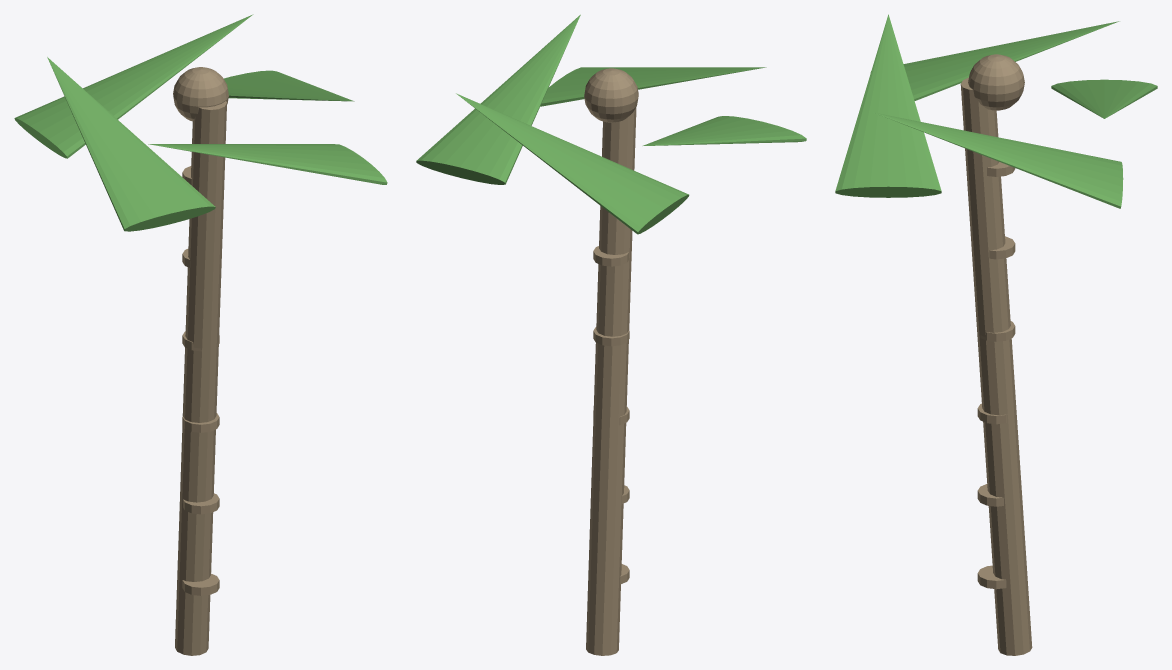
The model's file is palm-lod1.glb.
3 views of the same model, side by side, from view 1: azimuth 30°, elevation 25°; view 2: azimuth 150°, elevation 25°; view 3: azimuth 270°, elevation 25° (orthographic). The views are drawn at different scales.
Parts seen in each view (by area): view 1: palm-lod1; view 2: palm-lod1; view 3: palm-lod1.
Boxes of the visible parts, left/top/right/bottom form: palm-lod1: left=14, top=14, right=387, bottom=655; palm-lod1: left=416, top=14, right=806, bottom=655; palm-lod1: left=835, top=14, right=1157, bottom=655.
Size of the model in its own units: 5.67 by 11.51 by 5.67.
